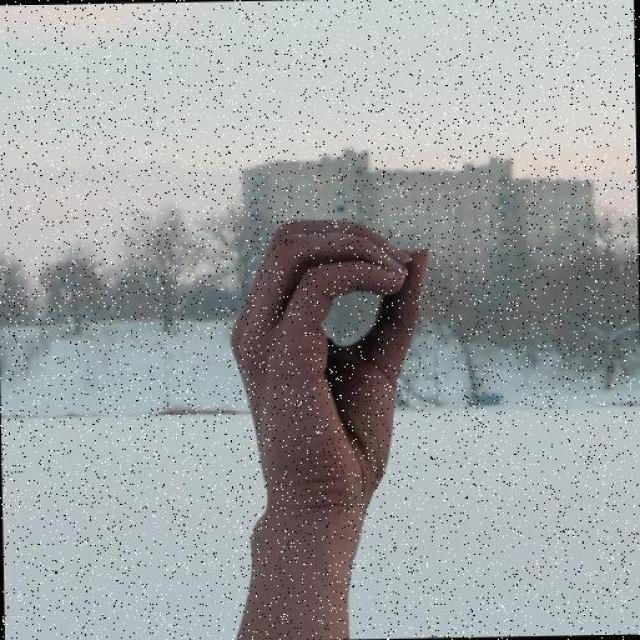O: (224, 214, 436, 518)
